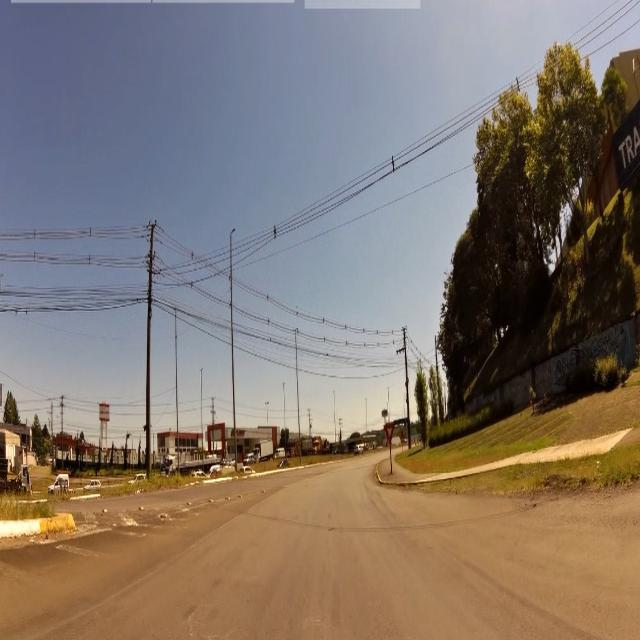R-2: (384, 421, 396, 444)
